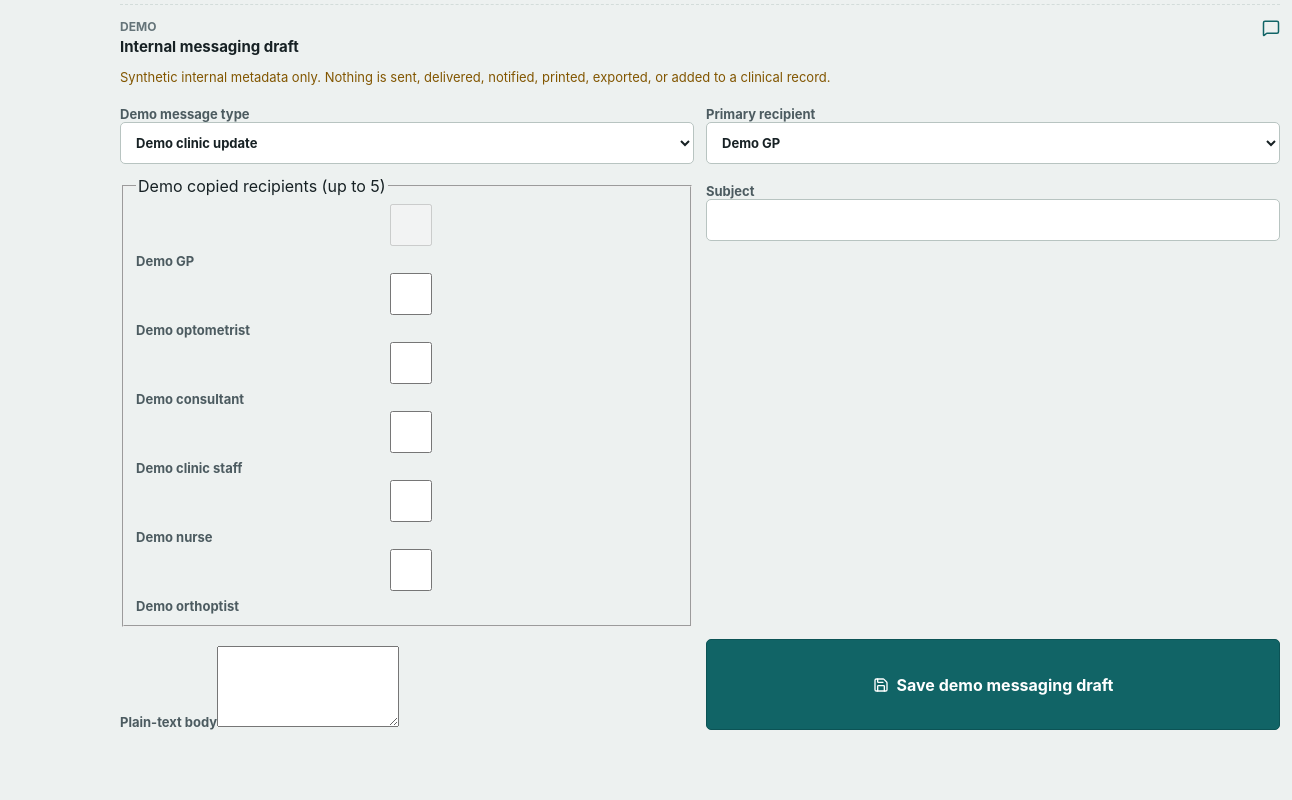
MessagingDraftDemo › saves bounded synthetic recipients without browser scope or delivery fields
The image size is (1292, 800).
Type "Demo review" into the field labelled "Subject" at (993, 220), box 706,199 -> 1280,241
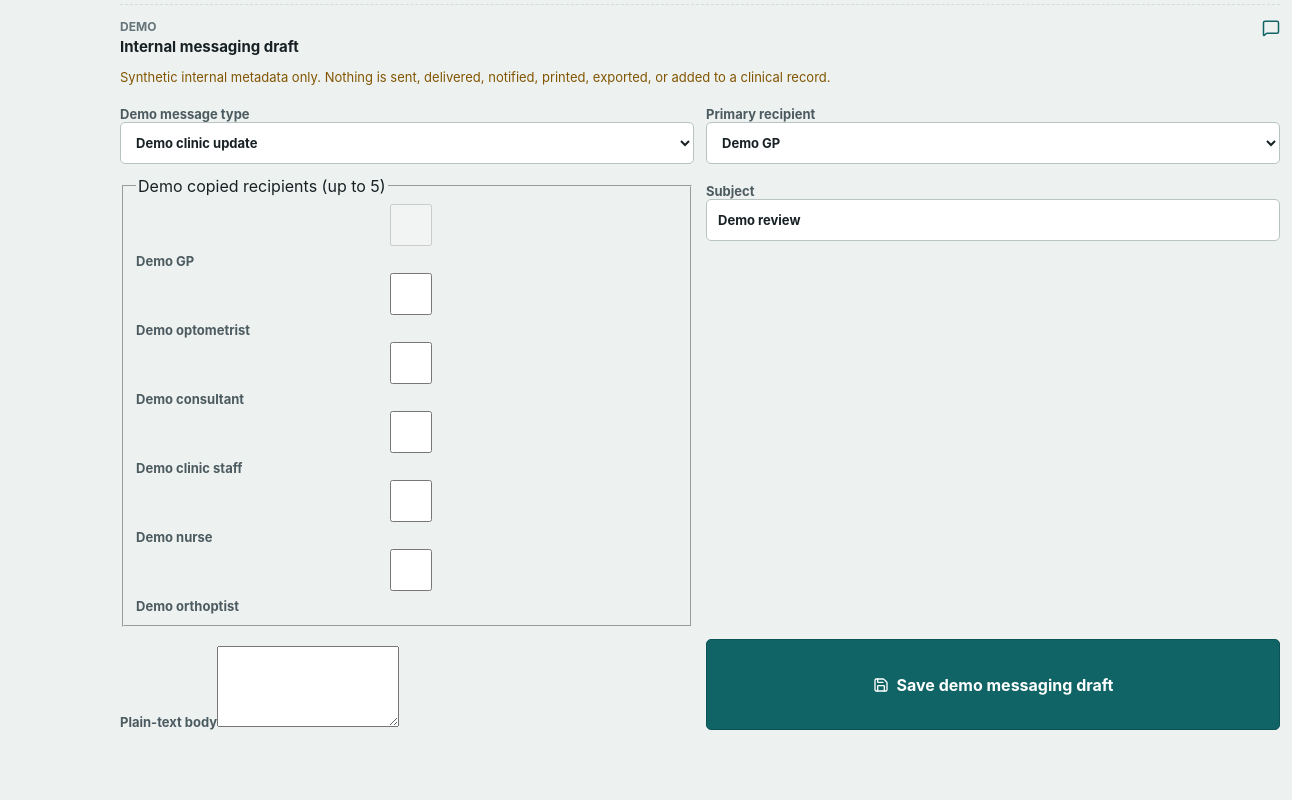
Type "Please review this demo message." into the text box labelled "Plain-text body" at (308, 687), box 217,646 -> 399,727
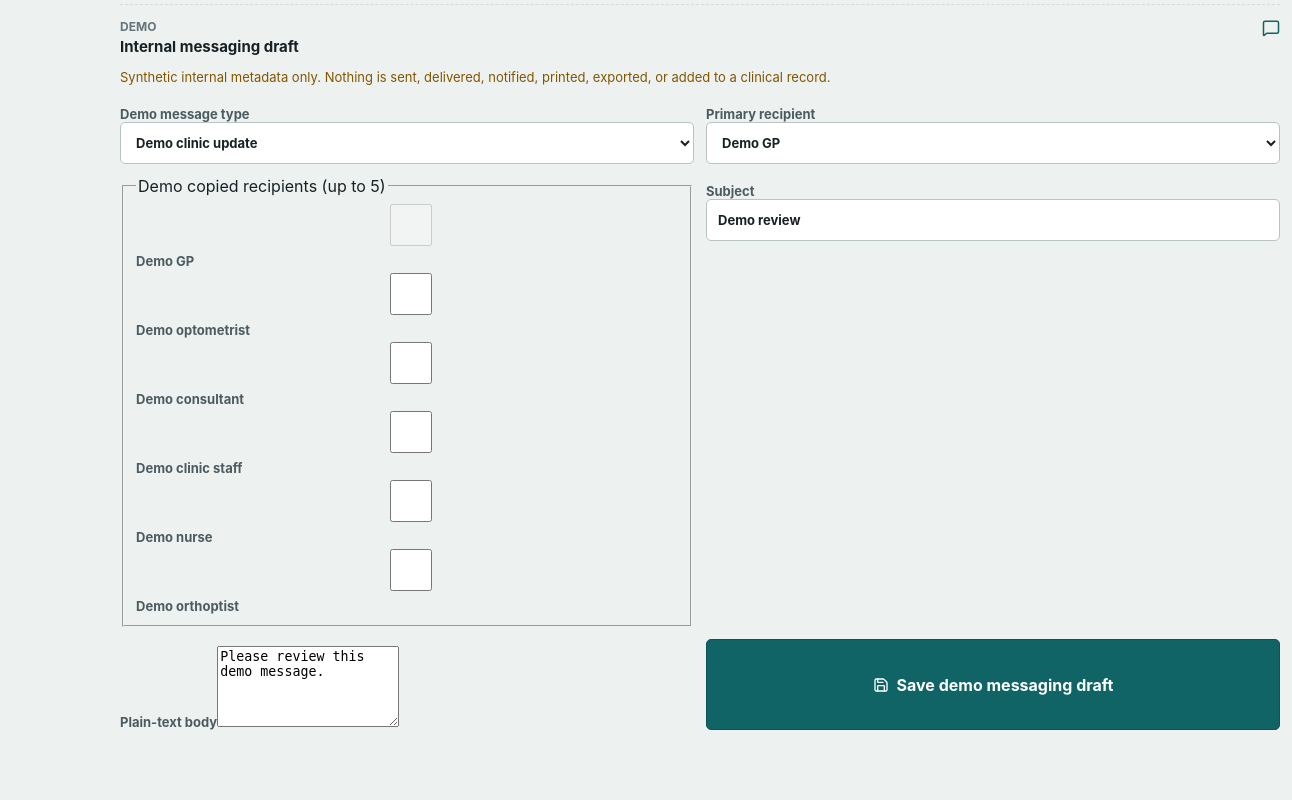
Click the checkbox labelled "Demo consultant" at (411, 363), box 140,342 -> 682,384
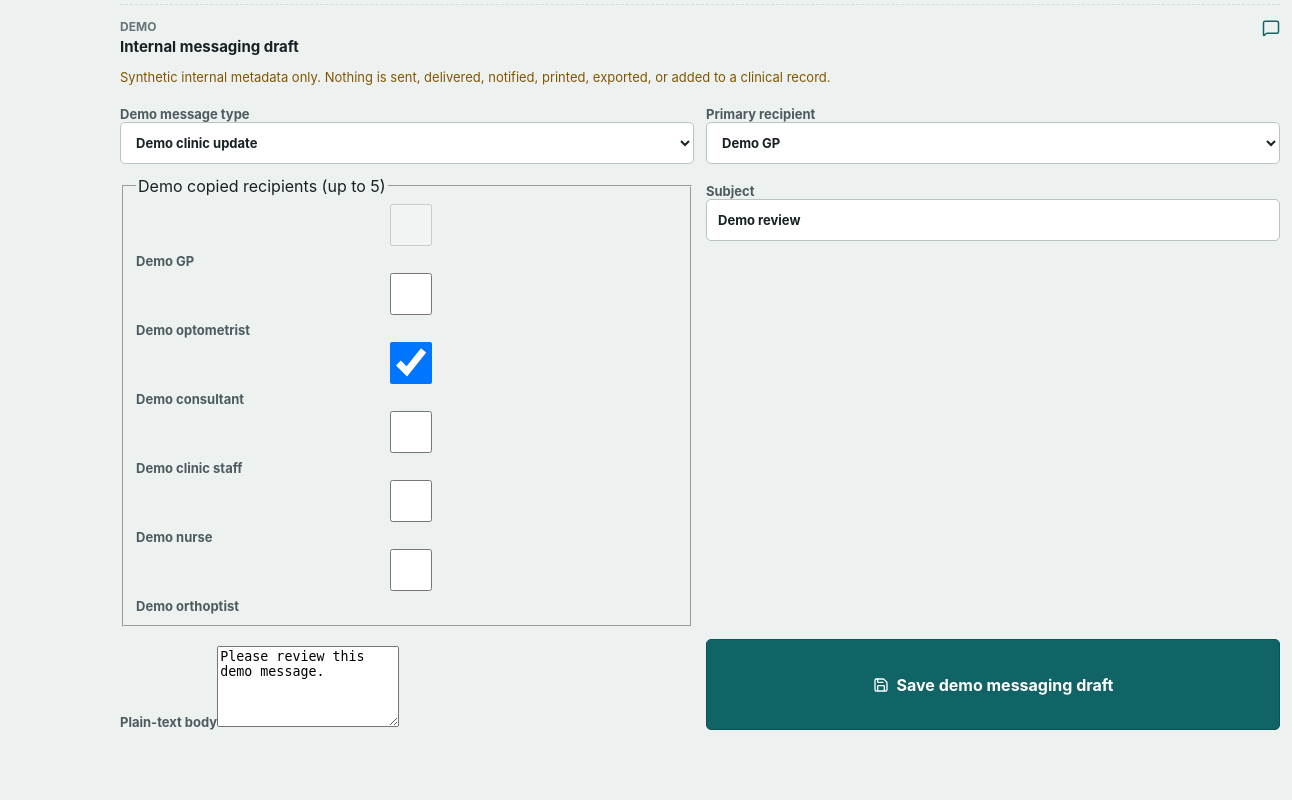
Click the button "Save demo messaging draft" at (993, 685), box 706,639 -> 1280,730
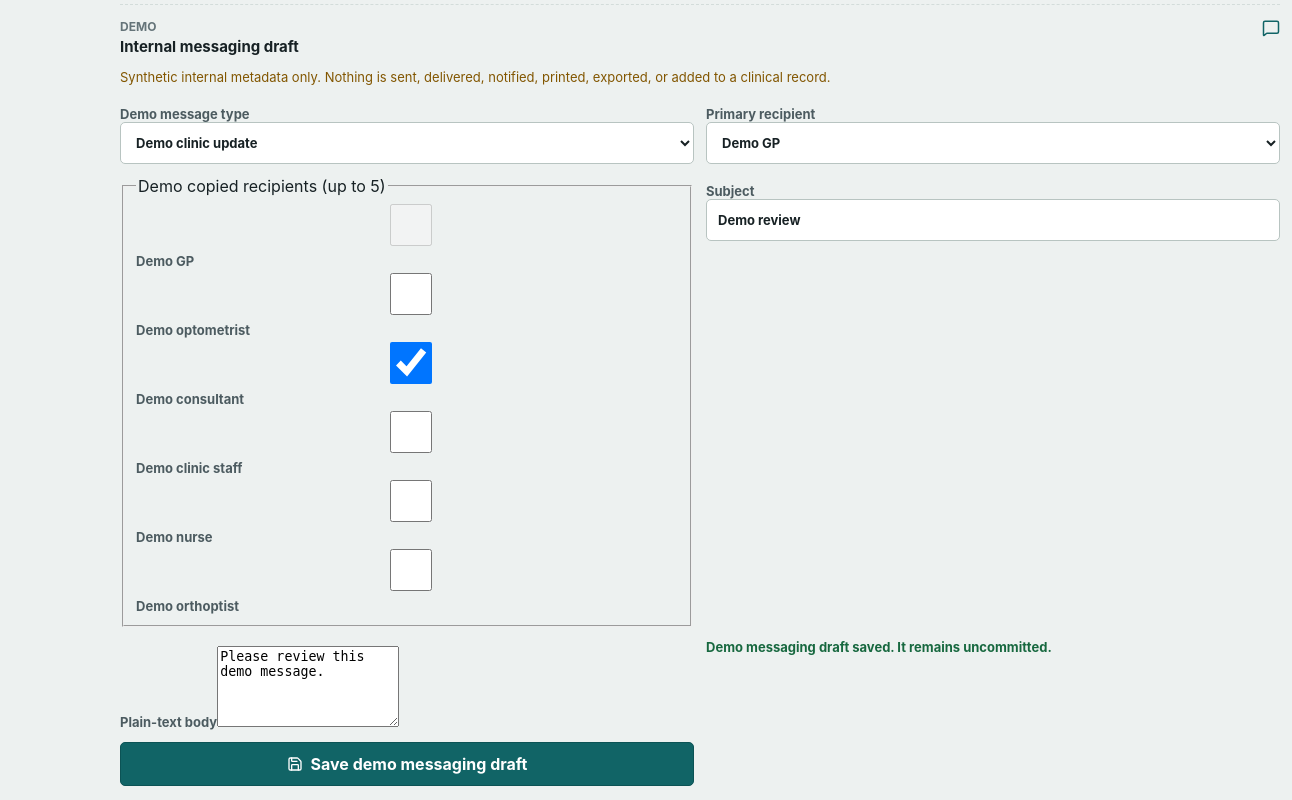
Result: the text "Demo messaging draft saved. It remains uncommitted." is shown at 706,639 -> 1052,655
